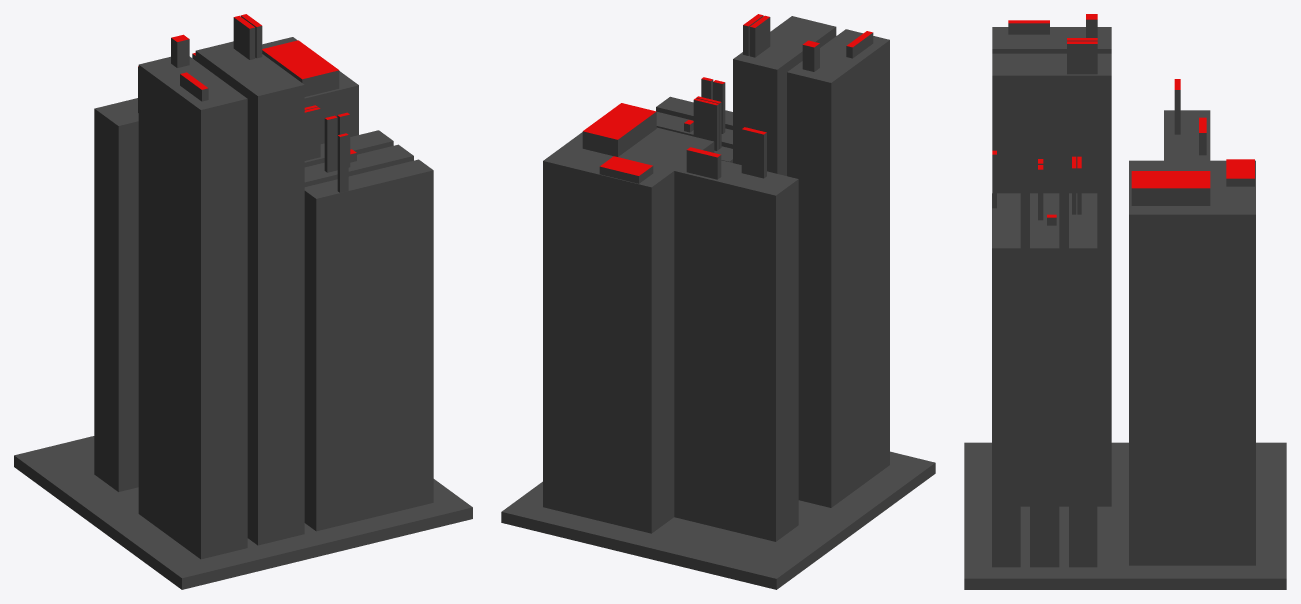
The model's file is block_0.FBX.
The picture shows the model from 3 angles, left to right: view 1: azimuth 30°, elevation 25°; view 2: azimuth 150°, elevation 25°; view 3: azimuth 270°, elevation 25°; orthographic projection. The views are drawn at different scales.
Visible parts, largest first — view 1: Plane01, panels; view 2: Plane01, panels; view 3: Plane01, panels.
Part boxes in pixels (x1,y1,x2,y2): Plane01: (14, 16, 472, 589); panels: (138, 14, 356, 154); Plane01: (501, 15, 935, 589); panels: (583, 14, 872, 175); Plane01: (964, 19, 1286, 589); panels: (992, 14, 1254, 217).
Size of the model in its own units: 78.13 by 126 by 78.13.
